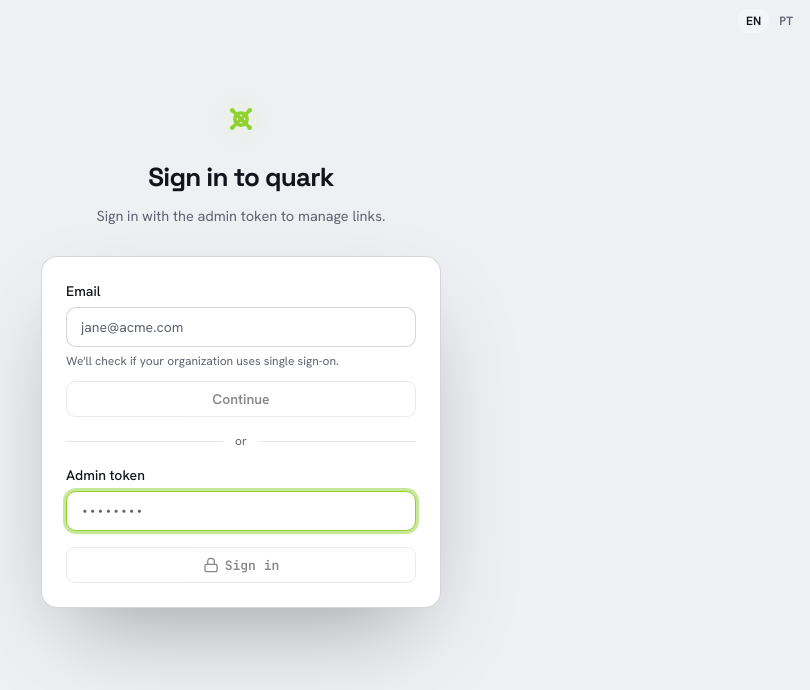
Test: Login › submitting an email with no SSO org falls back to the shared provider button and token field (no redirect)
Step 1. Type "jane@personal.com" into the field labelled "Email" → x=241, y=327, box [66,307,416,347]
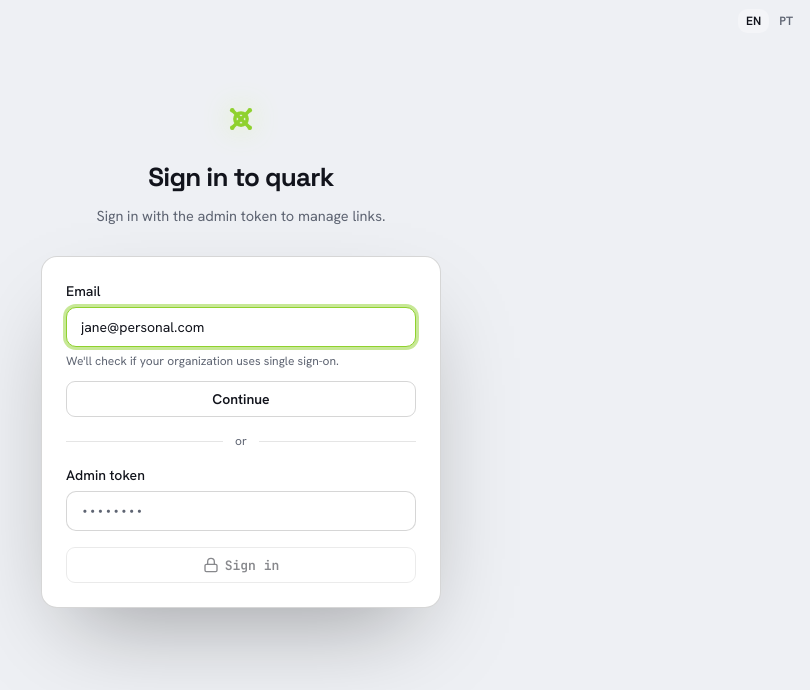
Step 2. Click the button "Continue" → x=241, y=399, box [66,381,416,417]
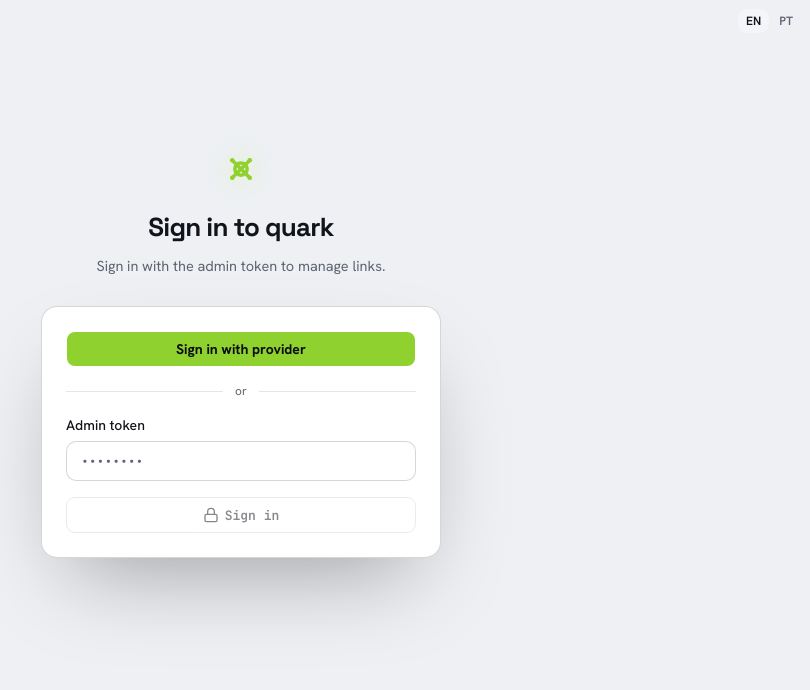
Expected: the password field labelled "Admin token" is shown, [66,441,416,481]
Now the button "Sign in with provider" is shown, box [66,331,416,367]
